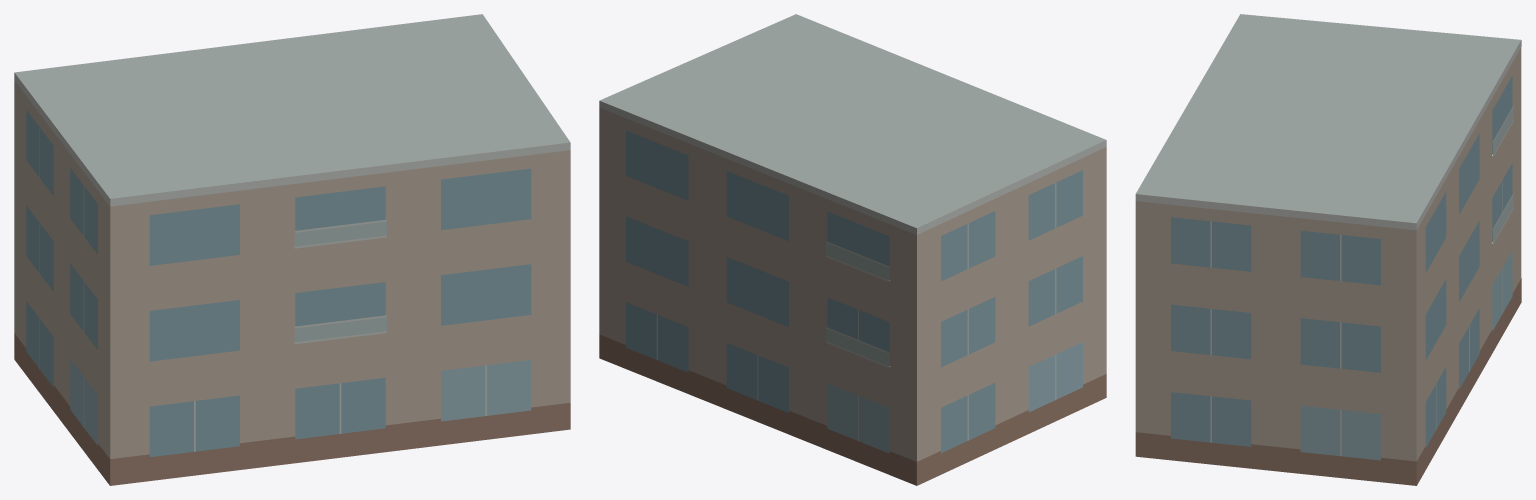
Rendered from survey-upis-33041352.glb.
3 views of the same model, side by side, from view 1: azimuth 30°, elevation 25°; view 2: azimuth 150°, elevation 25°; view 3: azimuth 270°, elevation 25° (orthographic). The views are drawn at different scales.
Visible parts, largest first — view 1: survey-upis-33041352.tmp; view 2: survey-upis-33041352.tmp; view 3: survey-upis-33041352.tmp.
Part boxes in pixels (<box>): survey-upis-33041352.tmp: <box>14,14,570,485</box>; survey-upis-33041352.tmp: <box>599,14,1106,485</box>; survey-upis-33041352.tmp: <box>1135,14,1521,485</box>.
Size of the model in its own units: 15.66 by 9.15 by 12.2.
